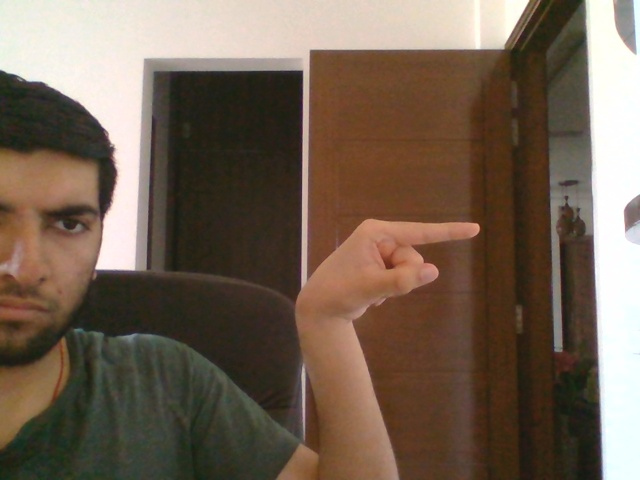LetterG: (294, 217, 480, 325)
